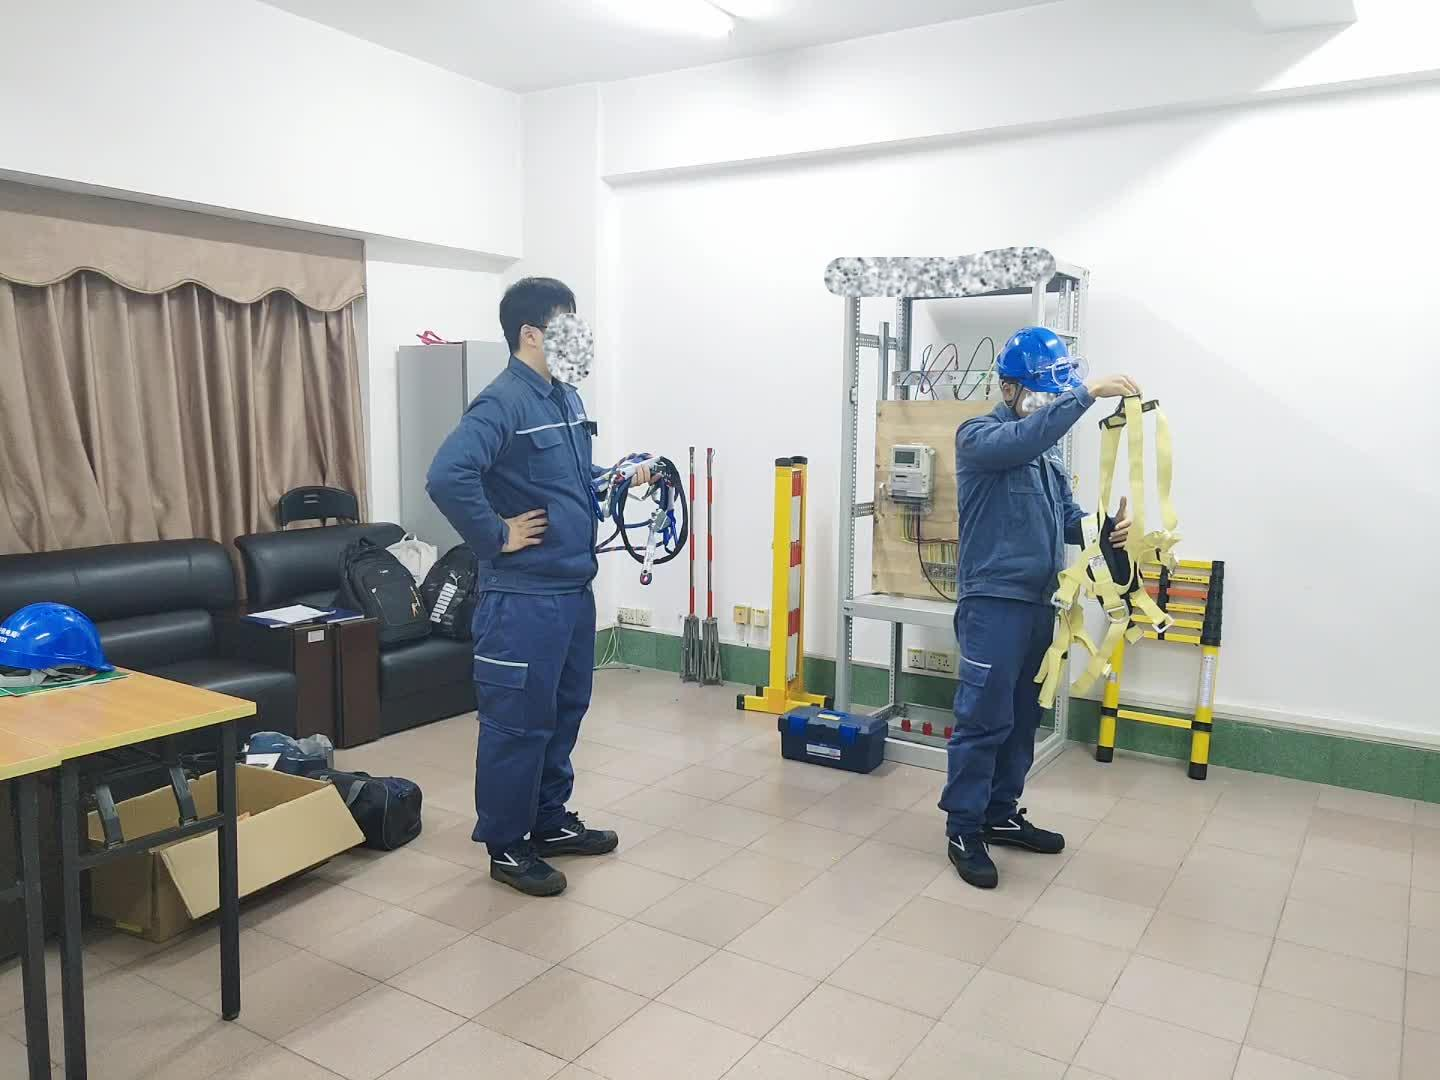halt: (997, 327, 1075, 410)
inear: (1002, 381, 1030, 414)
noear: (516, 319, 554, 361)
unhalt: (498, 277, 588, 376)
